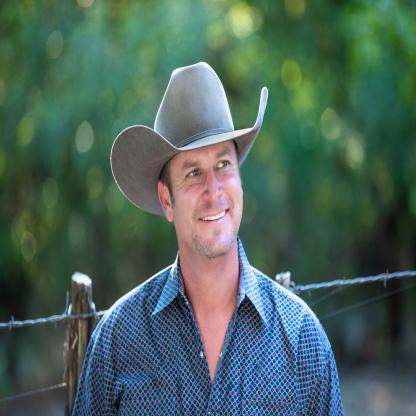hat: (105, 59, 271, 218)
